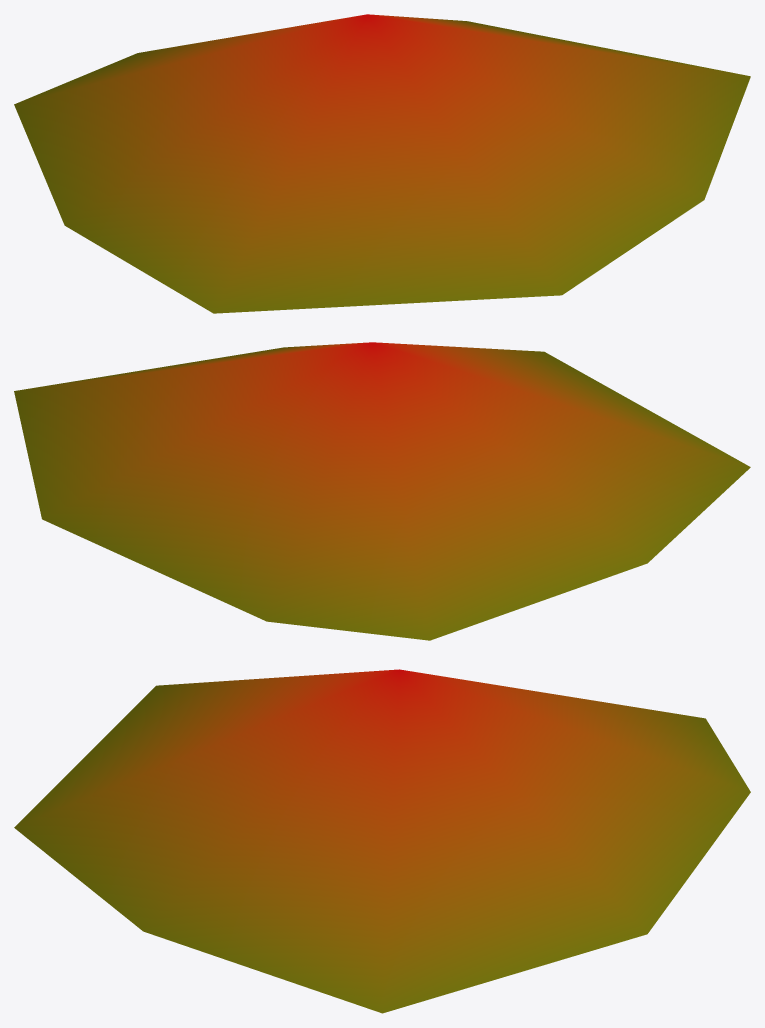
Rendered from Yellow Archangel_LOD4_Var6_wcwmcfvia.fbx.
3 views of the same model, one above another, from view 1: azimuth 30°, elevation 25°; view 2: azimuth 150°, elevation 25°; view 3: azimuth 270°, elevation 25° (orthographic). The views are drawn at different scales.
Parts seen in each view (by area): view 1: _yod8_Var6_LOD4; view 2: _yod8_Var6_LOD4; view 3: _yod8_Var6_LOD4.
Boxes of the visible parts, bbox=[...] form: _yod8_Var6_LOD4: bbox=[14, 14, 750, 313]; _yod8_Var6_LOD4: bbox=[14, 342, 750, 640]; _yod8_Var6_LOD4: bbox=[14, 669, 750, 1013].
Bounding box in the file's own units: 10.49 × 2.22 × 9.64.
